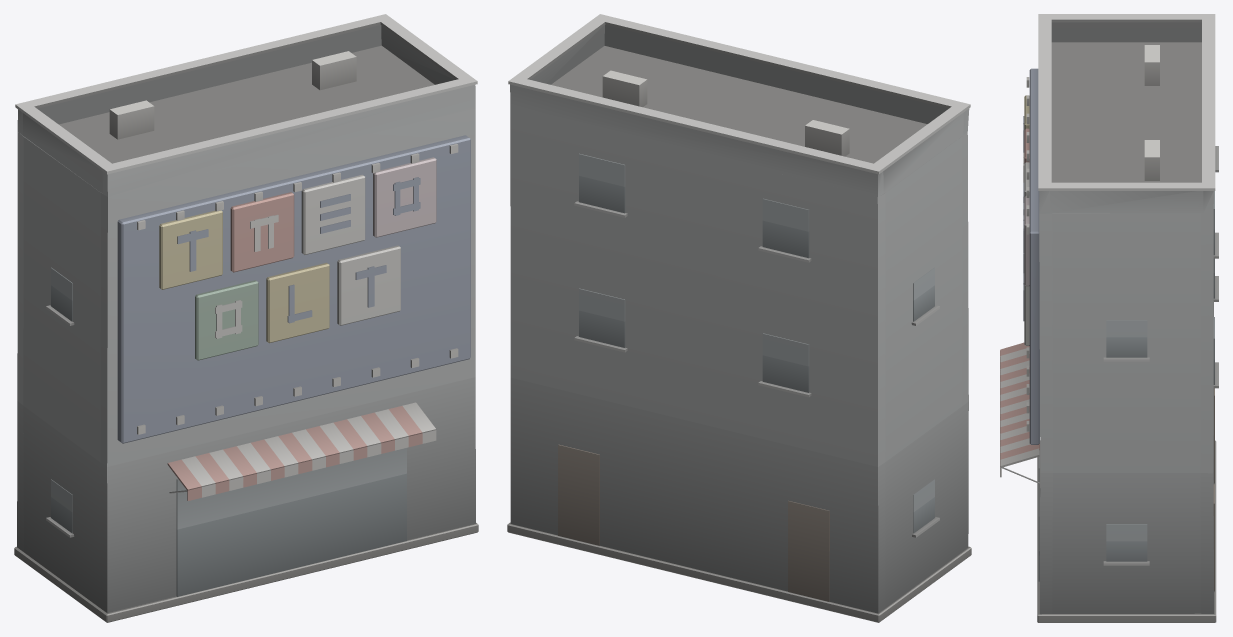
File: parlour.lod.glb
3 renders of one model, left to right at view 1: azimuth 30°, elevation 25°; view 2: azimuth 150°, elevation 25°; view 3: azimuth 270°, elevation 25°, orthographic. The views are drawn at different scales.
Visible parts, largest first — view 1: parlour.lod; view 2: parlour.lod; view 3: parlour.lod.
Part boxes in pixels (bbox=[...]): parlour.lod: bbox=[14, 14, 478, 622]; parlour.lod: bbox=[507, 14, 971, 622]; parlour.lod: bbox=[1000, 14, 1218, 622].
Size of the model in its own units: 8.2 by 9.38 by 4.28.
